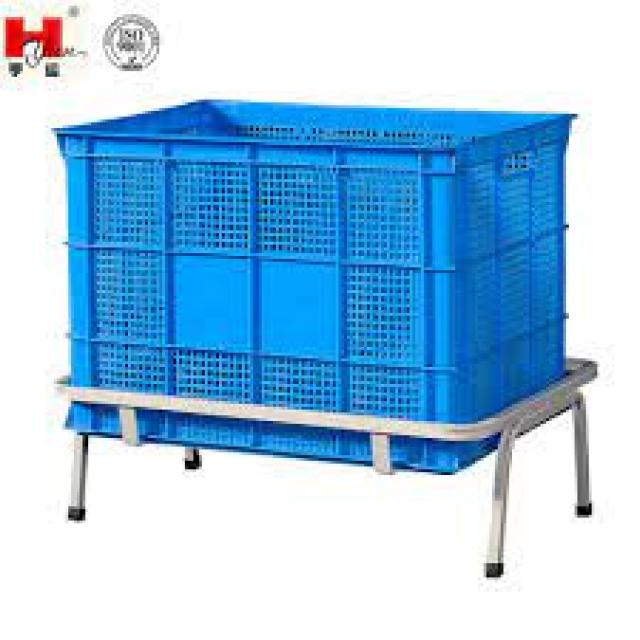basket: (34, 68, 607, 520)
